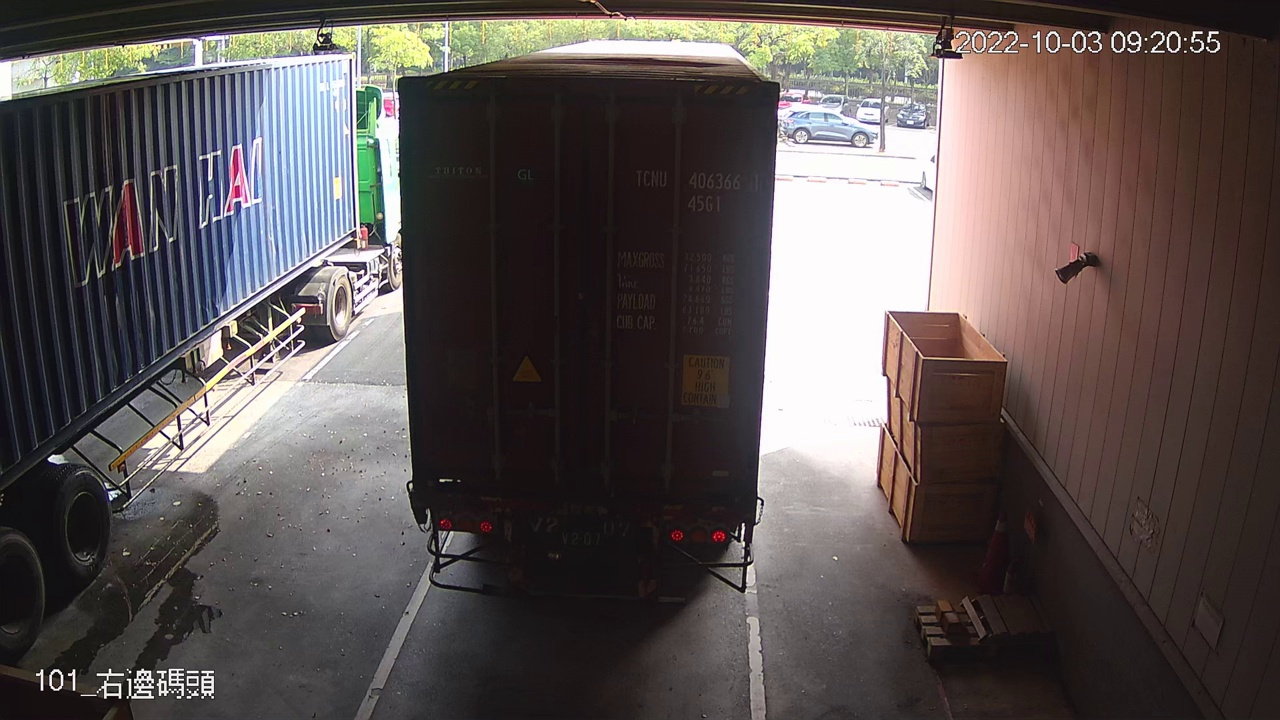container: (628, 159, 763, 220)
